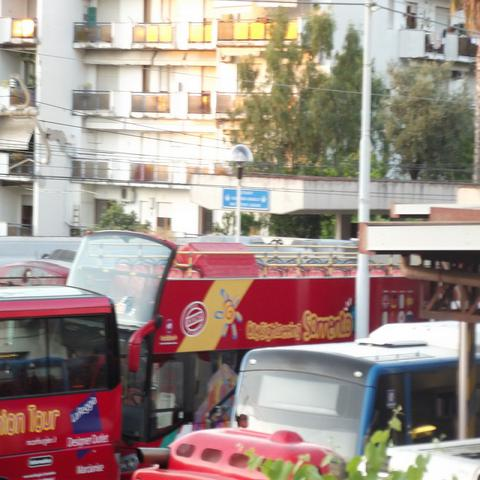bus: (66, 228, 359, 438), (230, 322, 461, 459), (0, 276, 121, 472), (0, 236, 82, 262)
